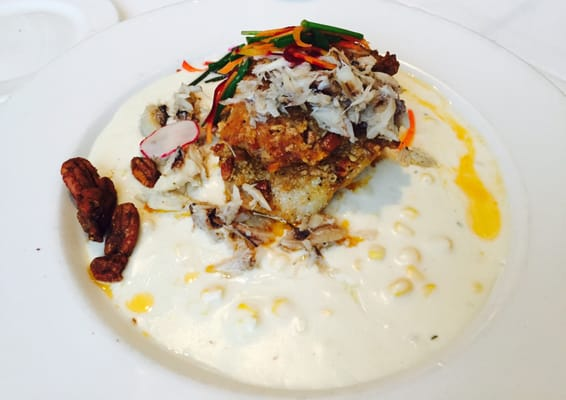curry: (13, 2, 563, 396)
sandwich: (38, 12, 559, 391)
